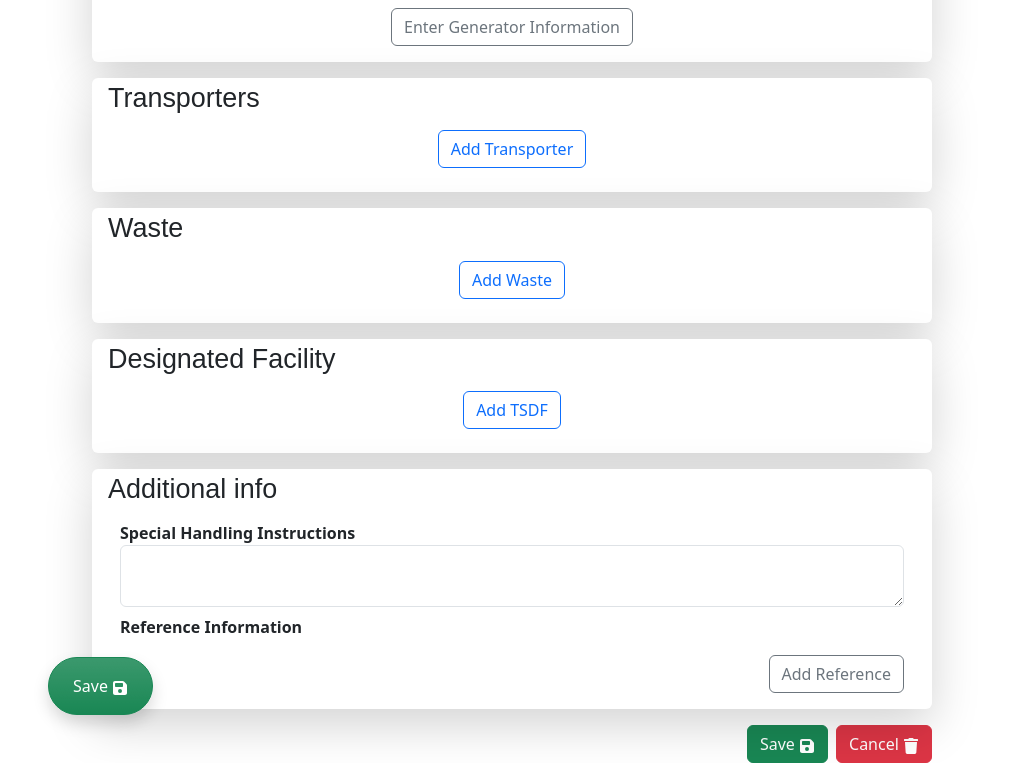
Scenario: ManifestForm › Can open TSDF search form
(page scrolled)
What coordinates should you click on to do the following:
click the button "Add TSDF"
I would click on:
 (512, 410)
Its box is [463,391,561,429].
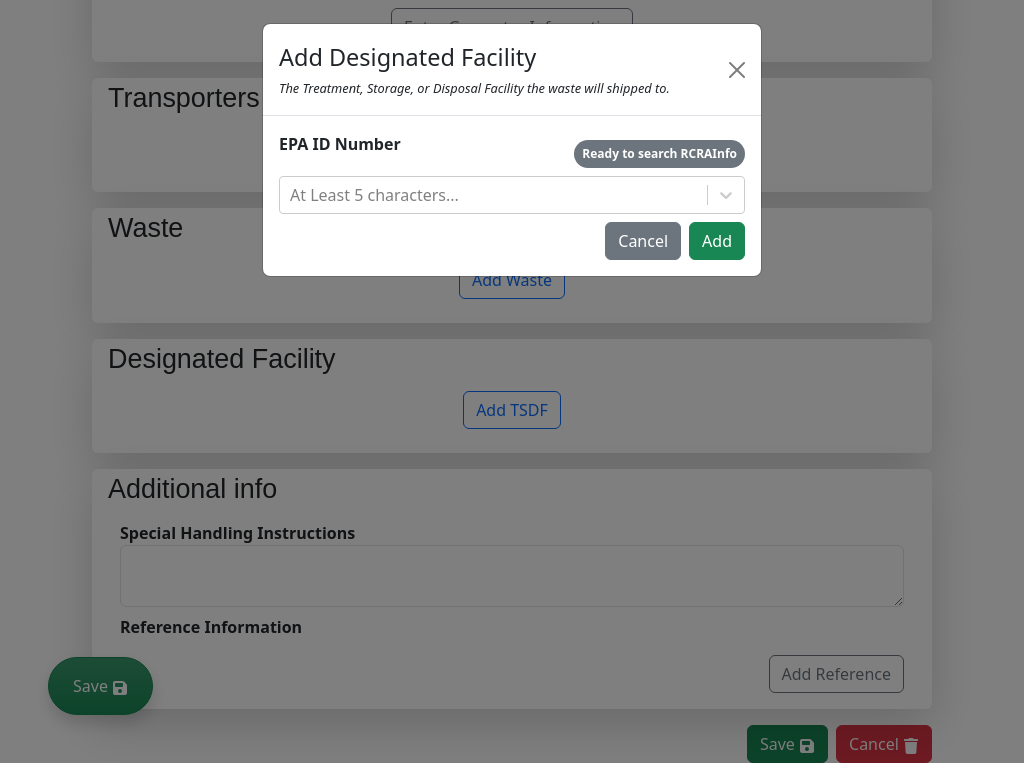
Expected: the text "Add Designated Facility" is shown, [279,41,536,73]
